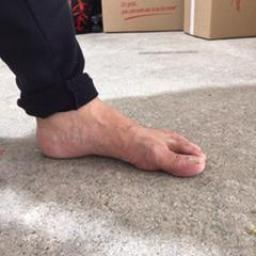Medial View -Left Foot-: (25, 79, 209, 190)
